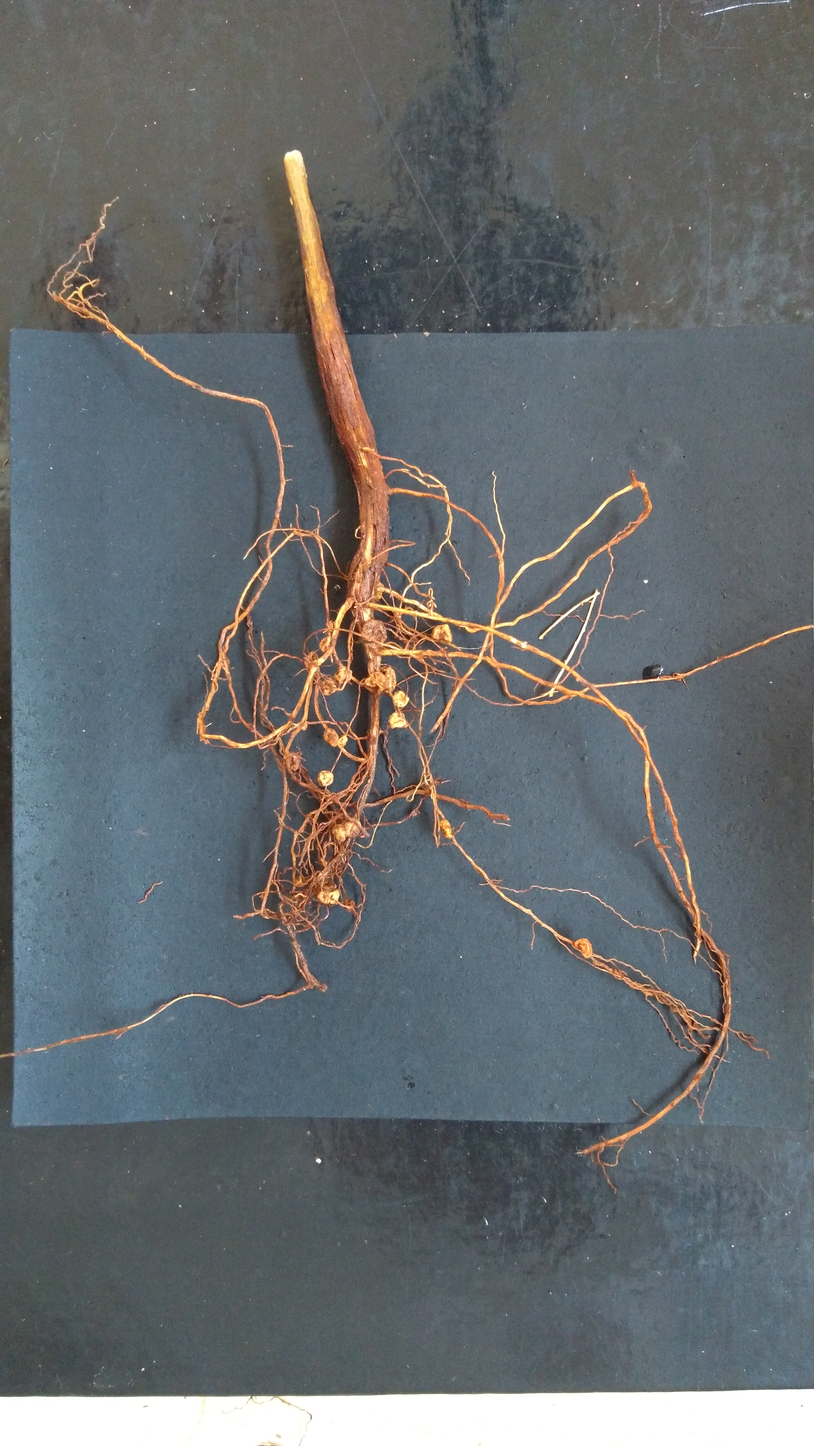nodule: (359, 618, 389, 650), (362, 670, 387, 696), (380, 664, 398, 696), (429, 623, 454, 644), (573, 936, 594, 961), (281, 750, 302, 772), (315, 888, 341, 905), (387, 711, 408, 730), (343, 818, 362, 839), (438, 818, 455, 840), (391, 689, 410, 708), (316, 770, 336, 788), (322, 727, 339, 748), (330, 822, 347, 843), (333, 665, 348, 688), (320, 678, 337, 697), (318, 636, 332, 652), (375, 580, 385, 602), (339, 735, 349, 748), (325, 621, 335, 633)
